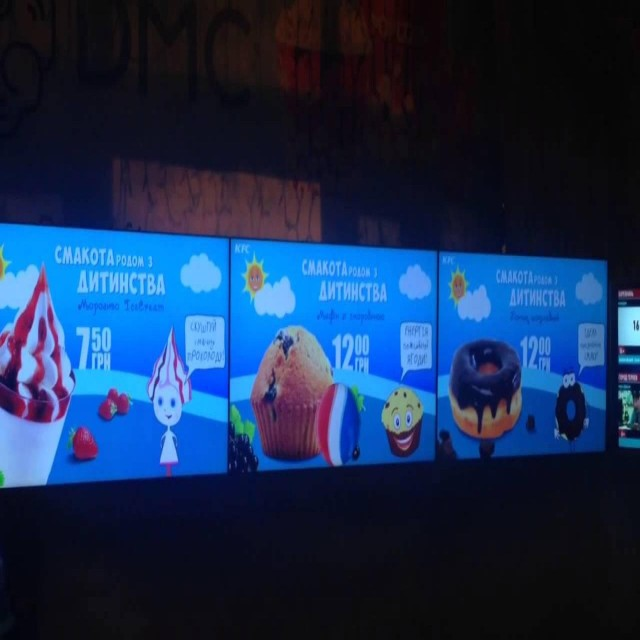pepsi: (314, 379, 364, 468)
